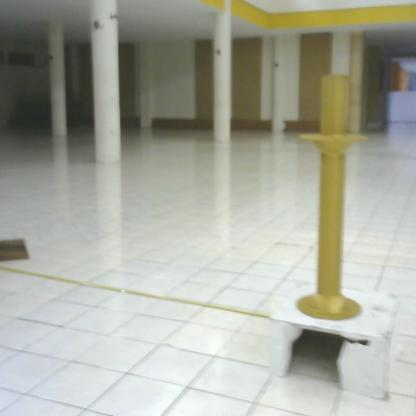pole: (297, 68, 373, 325)
